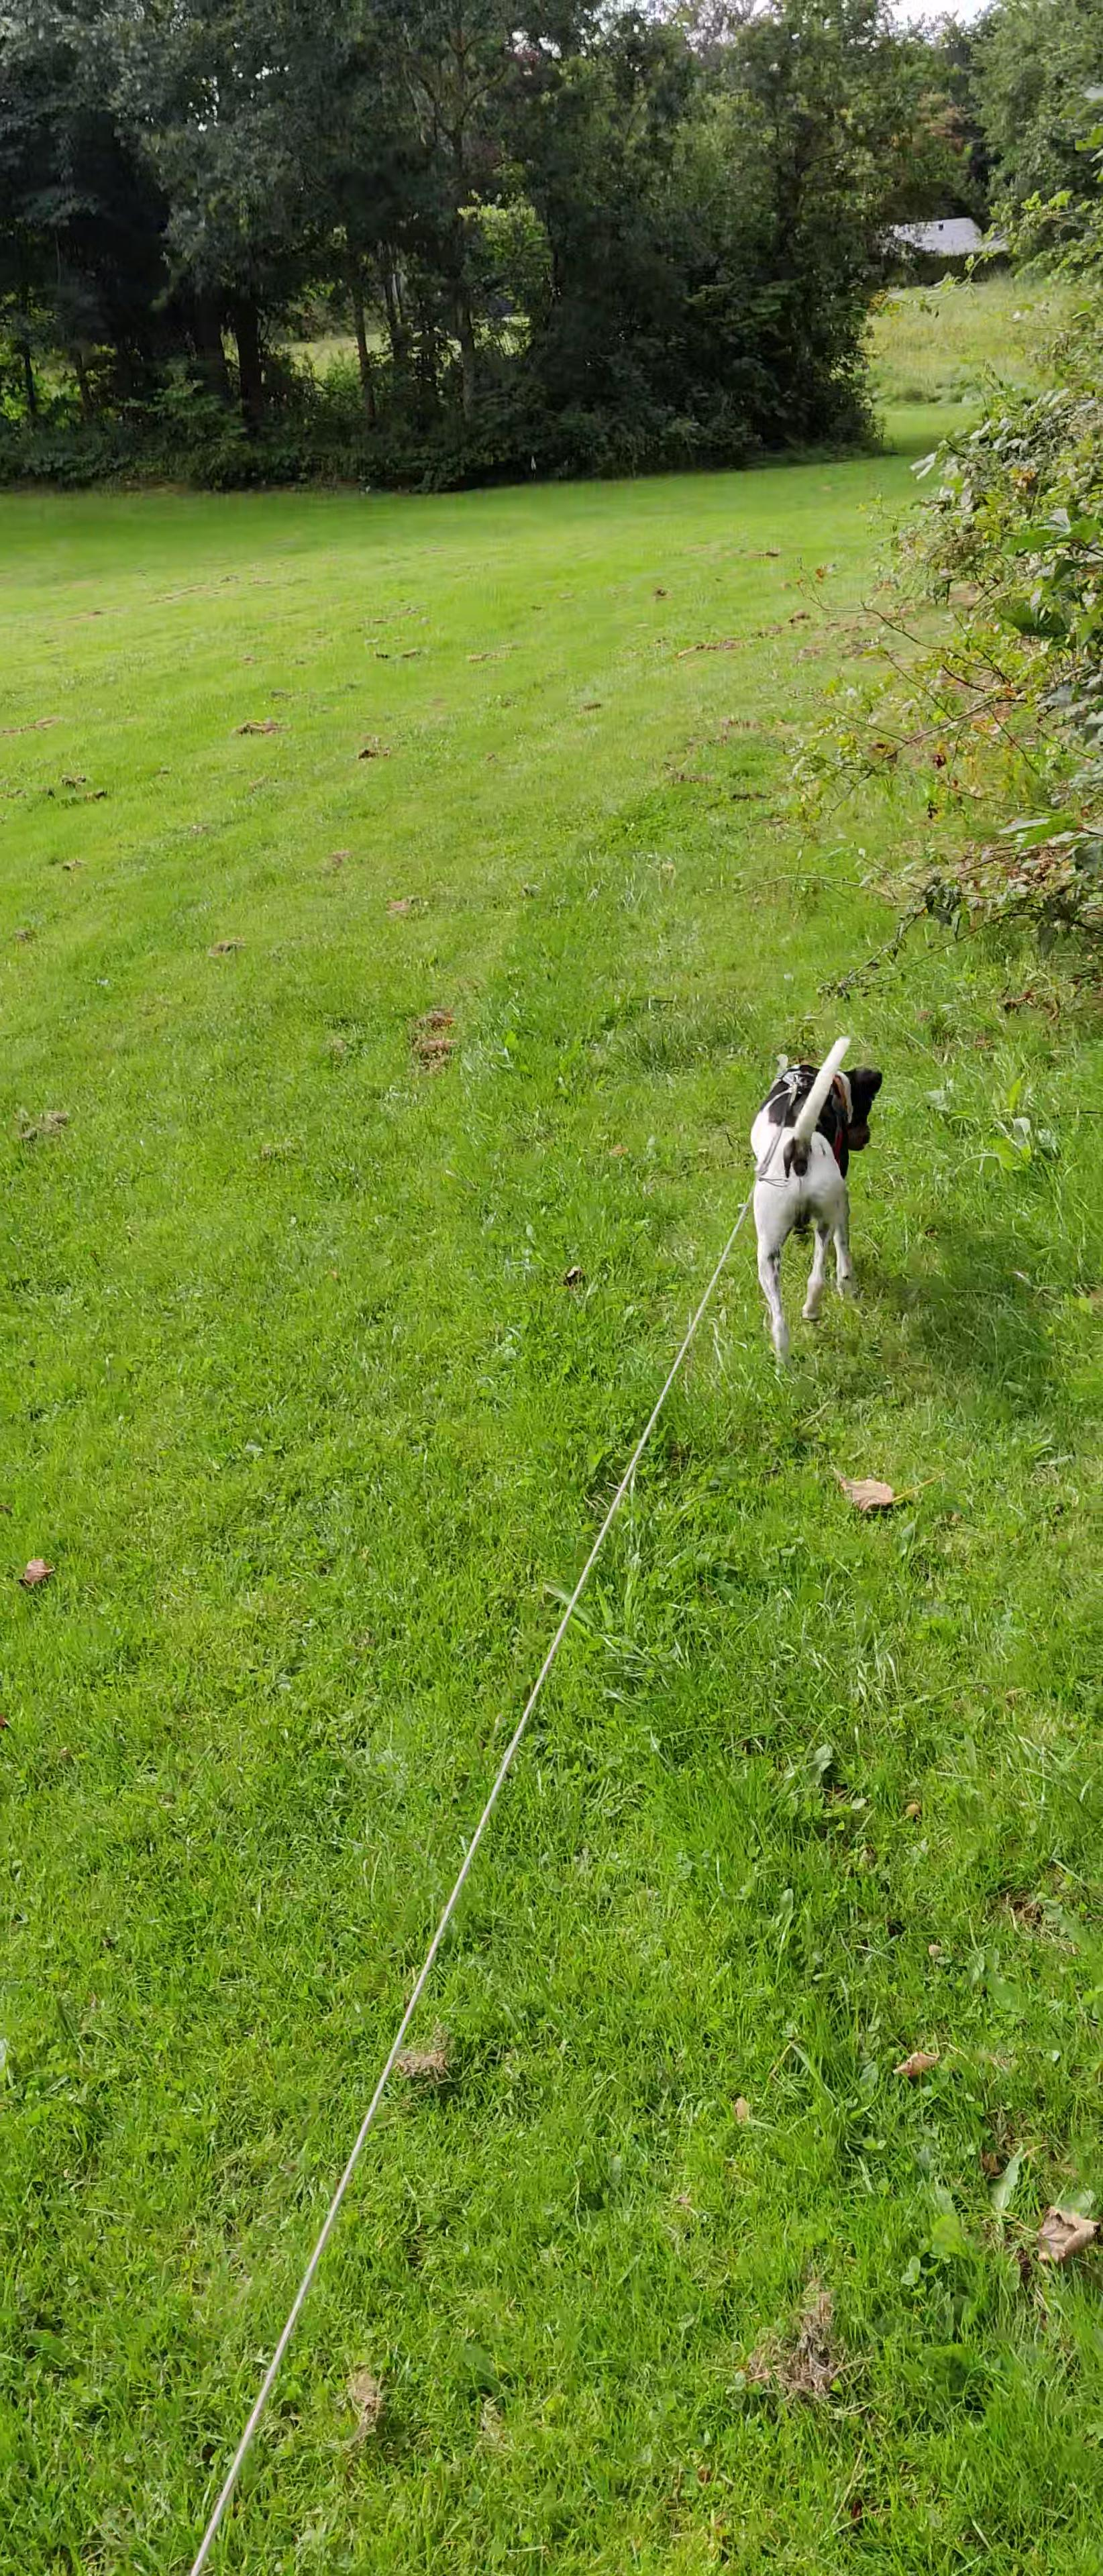Dog: (743, 1032, 891, 1373)
